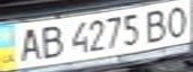2: (84, 16, 109, 53)
4: (66, 18, 90, 55)
5: (121, 10, 145, 47)
7: (103, 12, 127, 50)
A: (12, 25, 45, 63)
B: (139, 6, 172, 43), (36, 22, 66, 60)
O: (163, 2, 193, 38)
